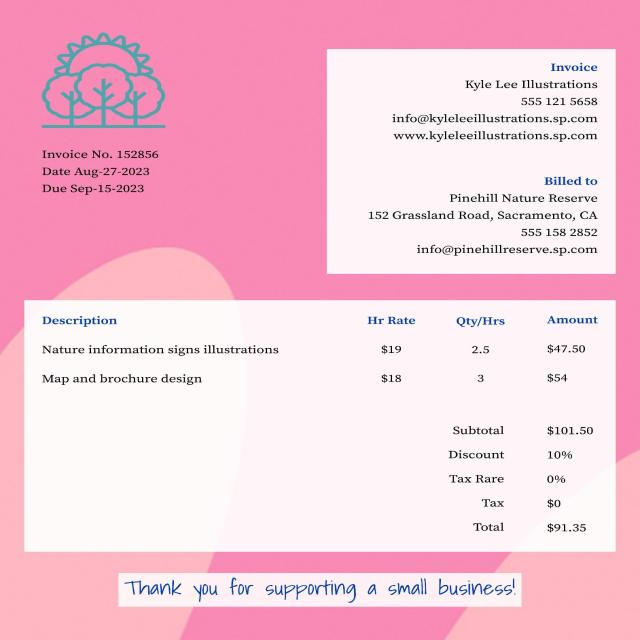paragraph: (328, 166, 619, 274), (326, 46, 615, 148), (416, 416, 612, 551), (18, 25, 196, 137), (111, 570, 528, 611), (19, 142, 192, 210)
table: (22, 300, 616, 396)
